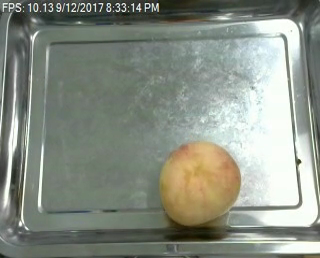Peach: (159, 140, 242, 226)
